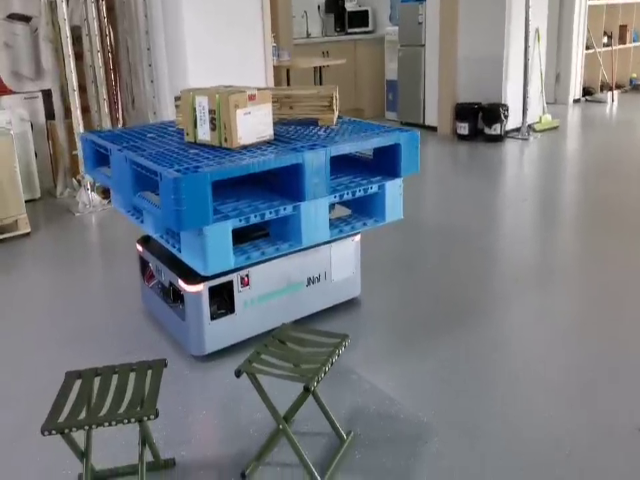block: (156, 169, 216, 228), (176, 222, 232, 276), (299, 148, 332, 201), (295, 201, 329, 250), (393, 134, 423, 182), (108, 148, 134, 200), (377, 182, 405, 228), (76, 134, 91, 175)
front: (176, 133, 421, 231)
hole pallet: (215, 165, 303, 221), (330, 145, 397, 192)
